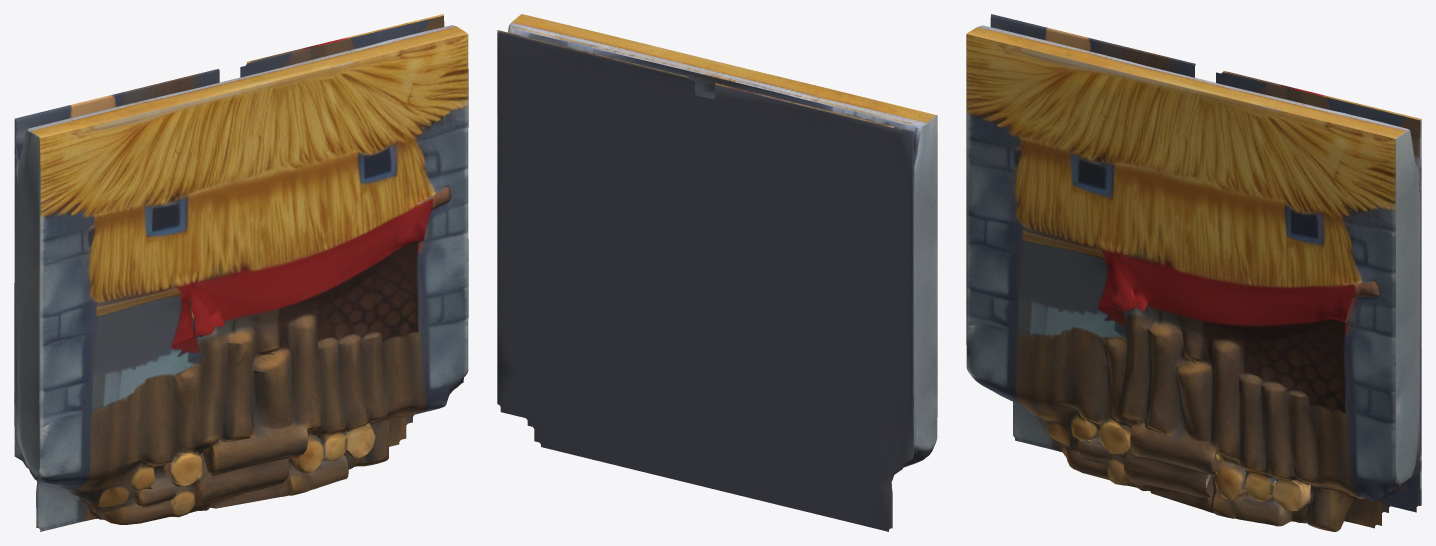
Rendered from tawantinsuyu_almacen_madera.glb.
The picture shows the model from 3 angles, left to right: view 1: azimuth 30°, elevation 25°; view 2: azimuth 150°, elevation 25°; view 3: azimuth 330°, elevation 25°; orthographic projection. The views are drawn at different scales.
Visible parts, largest first — view 1: geometry_0; view 2: geometry_0; view 3: geometry_0.
Boxes of the visible parts, x1,y1,x2,y2 form: geometry_0: [14, 14, 468, 531]; geometry_0: [497, 14, 937, 531]; geometry_0: [966, 14, 1421, 531].
Bounding box in the file's own units: 1.4 × 1.3 × 0.2103.
Materials: 1 (1 with a texture image).
